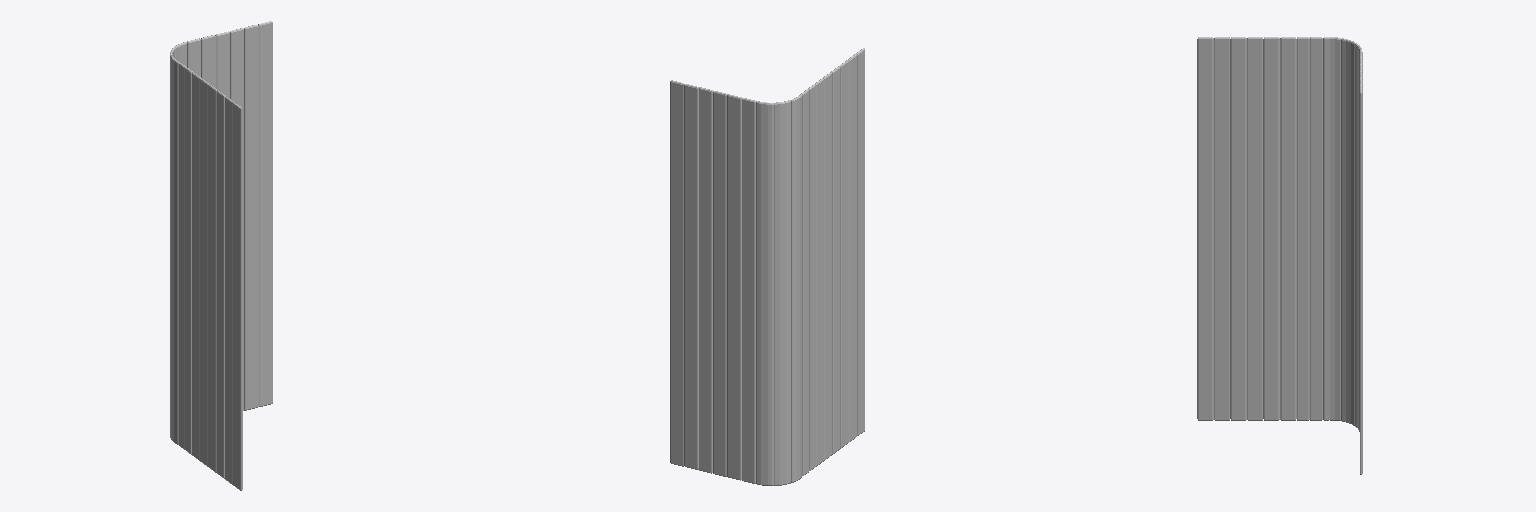
File: Garagentor.obj
The picture shows the model from 3 angles: view 1: azimuth 30°, elevation 25°; view 2: azimuth 150°, elevation 25°; view 3: azimuth 270°, elevation 25°; orthographic projection.
Visible parts, largest first — view 1: Garagentor_Cylinder; view 2: Garagentor_Cylinder; view 3: Garagentor_Cylinder.
Boxes of the visible parts, box(x1,y1,x2,y2) form: Garagentor_Cylinder: box(170, 21, 272, 490); Garagentor_Cylinder: box(670, 48, 864, 485); Garagentor_Cylinder: box(1197, 37, 1362, 474).
Bounding box in the file's own units: 2 × 6.41 × 2.5.